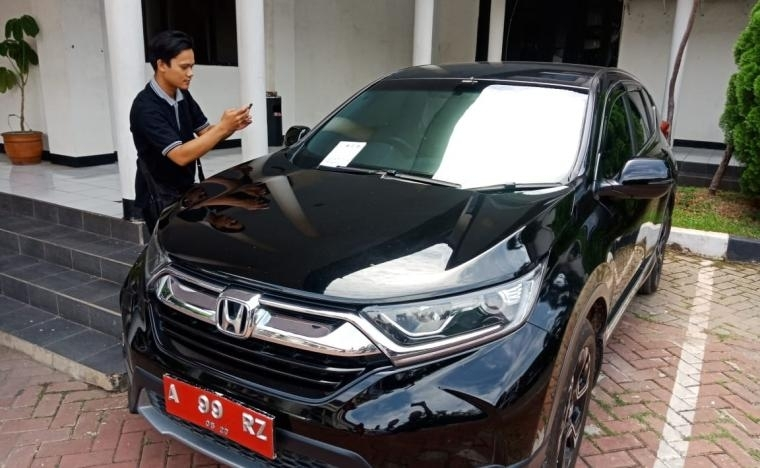plate: (163, 374, 273, 458)
